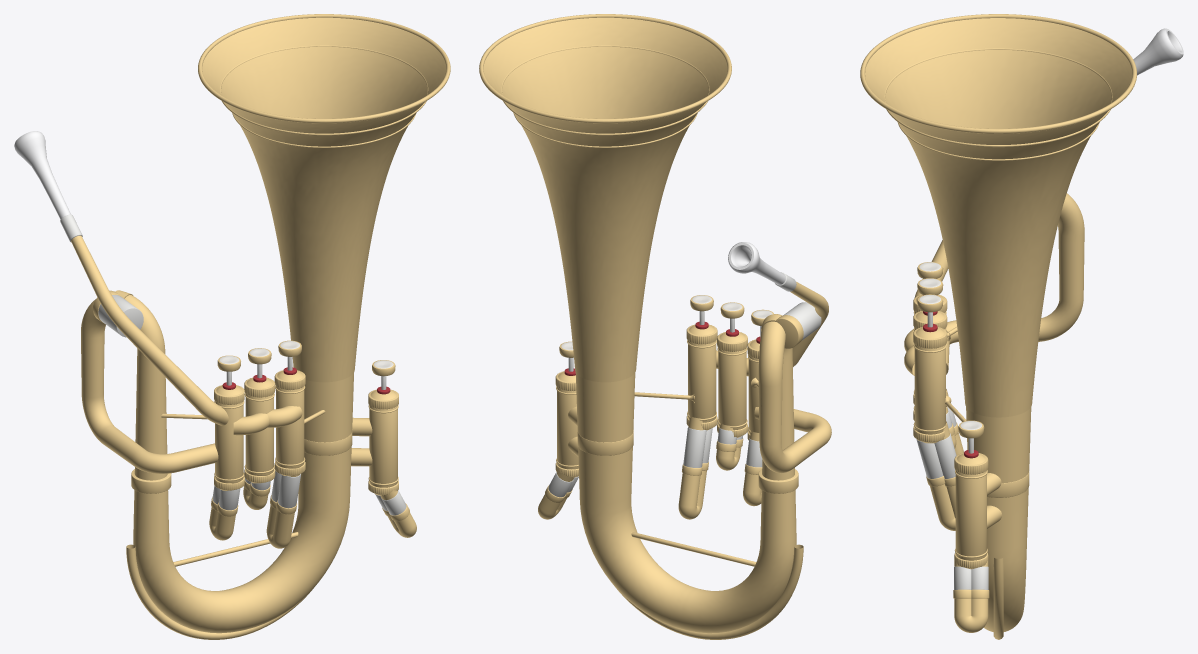
Rendered from euphonium.glb.
The picture shows the model from 3 angles, left to right: view 1: azimuth 30°, elevation 25°; view 2: azimuth 150°, elevation 25°; view 3: azimuth 270°, elevation 25°; orthographic projection. The views are drawn at different scales.
Parts seen in each view (by area): view 1: Body; view 2: Body; view 3: Body, valve3, valve4.
Part boxes in pixels (bbox=[...]): Body: bbox=[14, 14, 450, 639]; Body: bbox=[479, 14, 831, 639]; Body: bbox=[860, 14, 1183, 639]; valve3: bbox=[917, 294, 943, 327]; valve4: bbox=[958, 420, 984, 453].
Bounding box in the file's own units: 0.4711 × 0.7277 × 0.3549.
